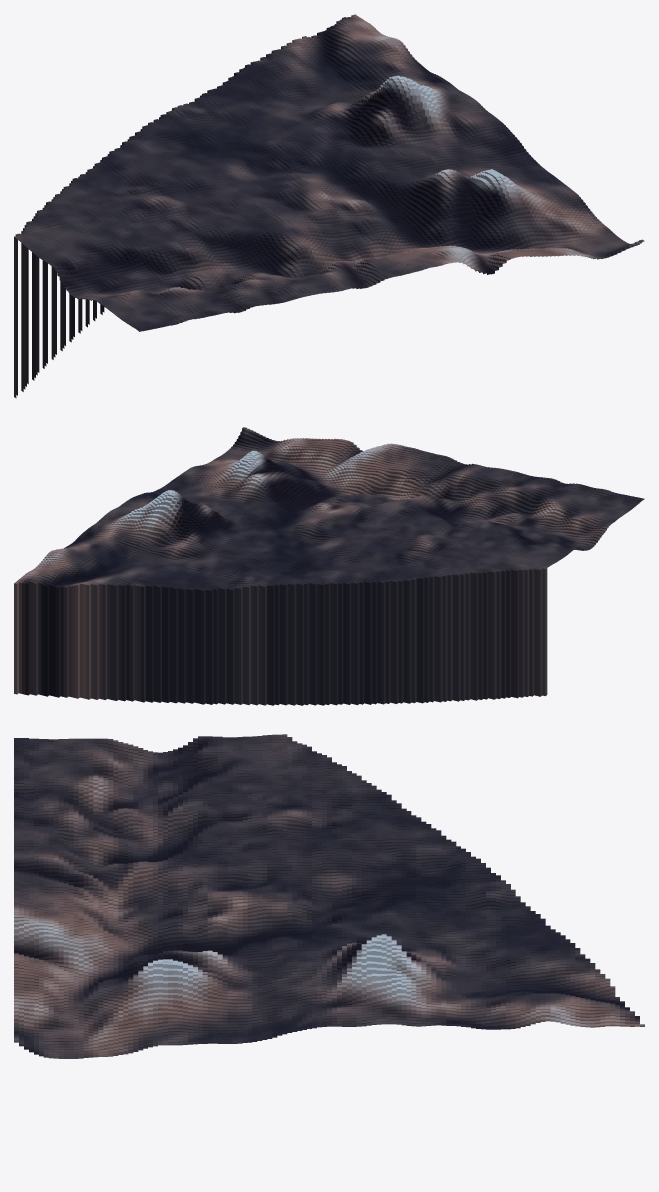
The model's file is chunk-03.glb.
3 views of the same model, one above another, from view 1: azimuth 30°, elevation 25°; view 2: azimuth 150°, elevation 25°; view 3: azimuth 270°, elevation 25° (orthographic). The views are drawn at different scales.
Visible parts, largest first — view 1: Mesh_0.019; view 2: Mesh_0.019; view 3: Mesh_0.019.
Part boxes in pixels (x1,y1,x2,y2): Mesh_0.019: [14, 14, 644, 398]; Mesh_0.019: [14, 427, 644, 705]; Mesh_0.019: [14, 734, 644, 1058].
Size of the model in its own units: 32000 by 11082 by 31750.
